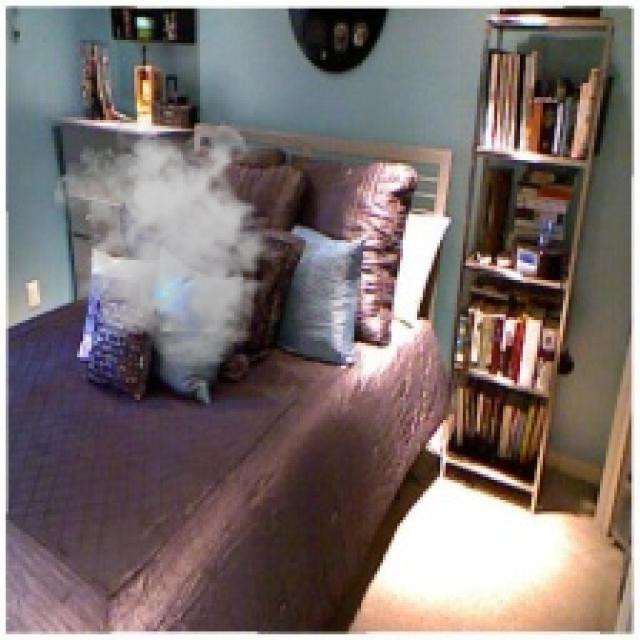Smoke: (55, 117, 292, 369)
